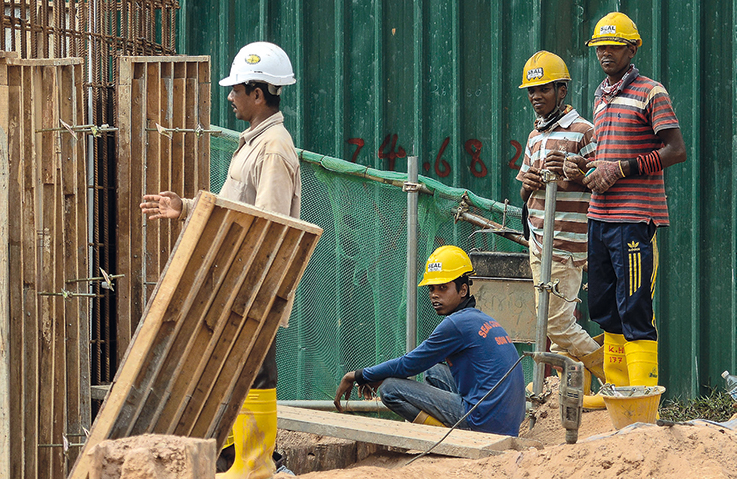Safety Helmet: (214, 33, 295, 142), (409, 236, 487, 320), (582, 7, 656, 92), (515, 41, 580, 137)
